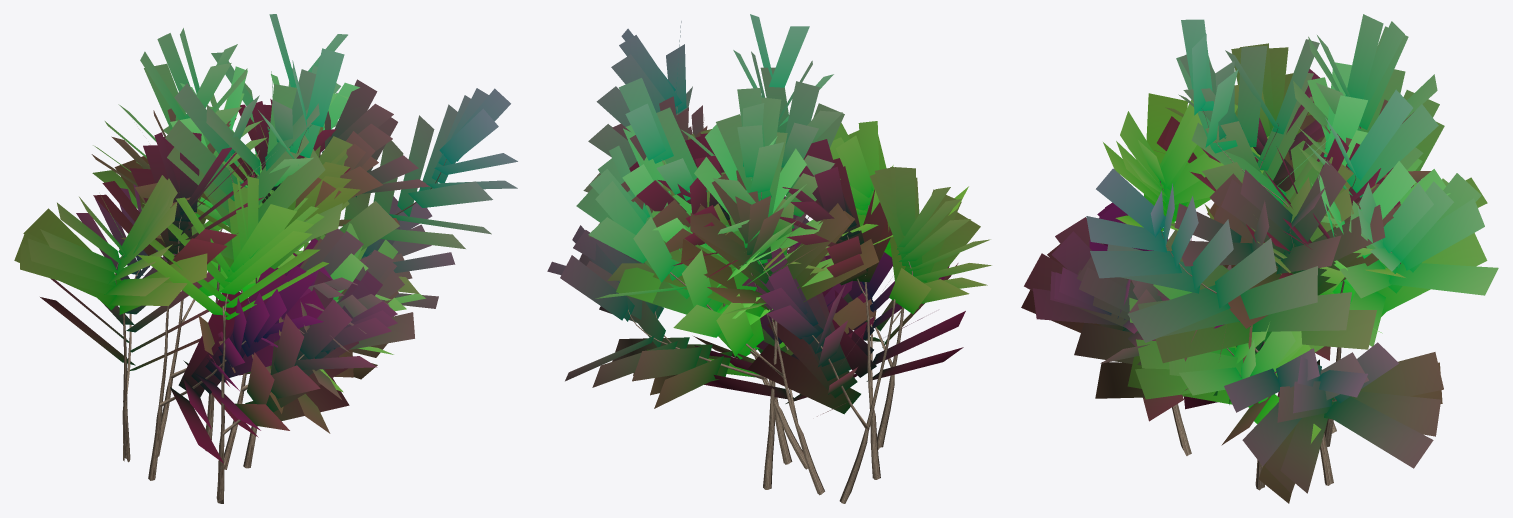
File: Tree_01_LODs.fbx
3 renders of one model, left to right at view 1: azimuth 30°, elevation 25°; view 2: azimuth 150°, elevation 25°; view 3: azimuth 270°, elevation 25°, orthographic. The views are drawn at different scales.
Parts seen in each view (by area): view 1: Tree_01_LOD00; view 2: Tree_01_LOD00; view 3: Tree_01_LOD00.
Part boxes in pixels (<box>): Tree_01_LOD00: <box>14,14,517,503</box>; Tree_01_LOD00: <box>547,14,991,503</box>; Tree_01_LOD00: <box>1021,14,1498,503</box>.
Size of what is drawn, in the model's own units: 356 by 334 by 299.
